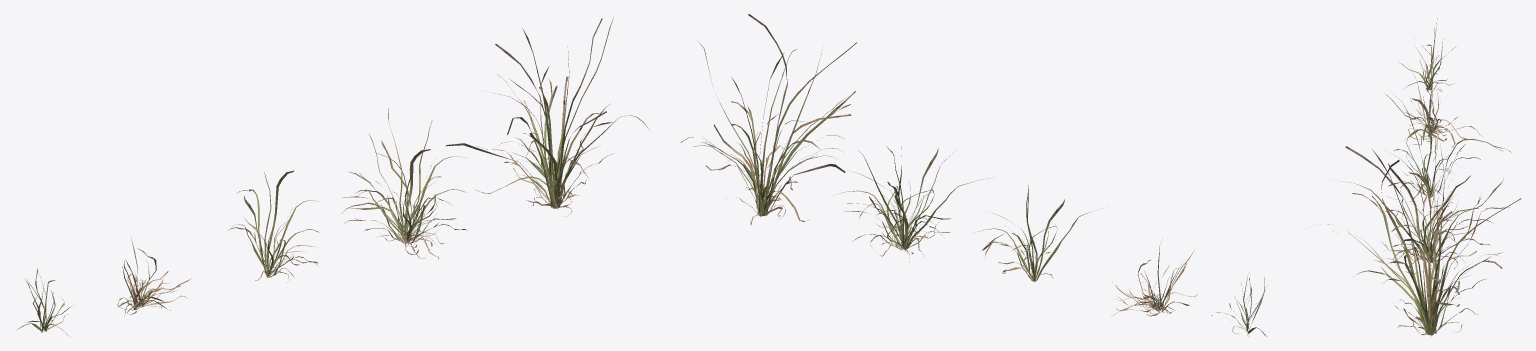
The model's file is capim2.glb.
3 views of the same model, side by side, from view 1: azimuth 30°, elevation 25°; view 2: azimuth 150°, elevation 25°; view 3: azimuth 270°, elevation 25° (orthographic). The views are drawn at different scales.
Parts seen in each view (by area): view 1: grass_medium_02; view 2: grass_medium_02; view 3: grass_medium_02.
Part boxes in pixels (x1,y1,x2,y2): grass_medium_02: [17, 17, 649, 334]; grass_medium_02: [680, 14, 1267, 336]; grass_medium_02: [1327, 19, 1521, 336].
Size of the model in its own units: 1.31 by 0.4053 by 0.4326.
Materials: 1 (1 with a texture image).
